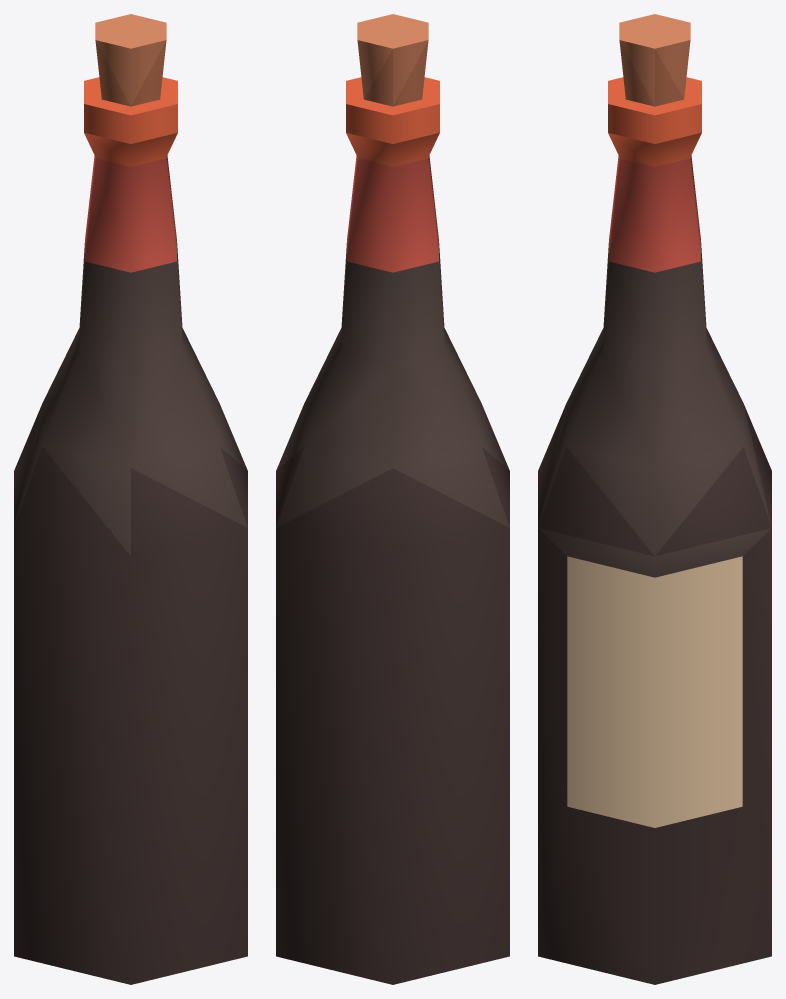
The model's file is vinho.glb.
3 views of the same model, side by side, from view 1: azimuth 30°, elevation 25°; view 2: azimuth 150°, elevation 25°; view 3: azimuth 270°, elevation 25° (orthographic).
Visible parts, largest first — view 1: wine-red; view 2: wine-red; view 3: wine-red.
Boxes of the visible parts, x1,y1,x2,y2 form: wine-red: [14, 14, 247, 984]; wine-red: [276, 14, 509, 984]; wine-red: [538, 14, 771, 984].
Bounding box in the file's own units: 0.1908 × 0.6989 × 0.1653.
